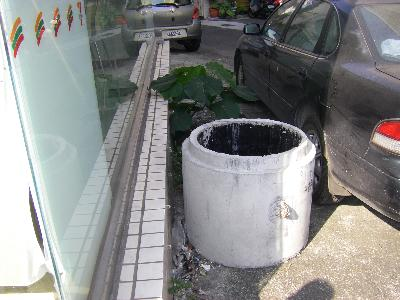bucket: (179, 117, 317, 270)
